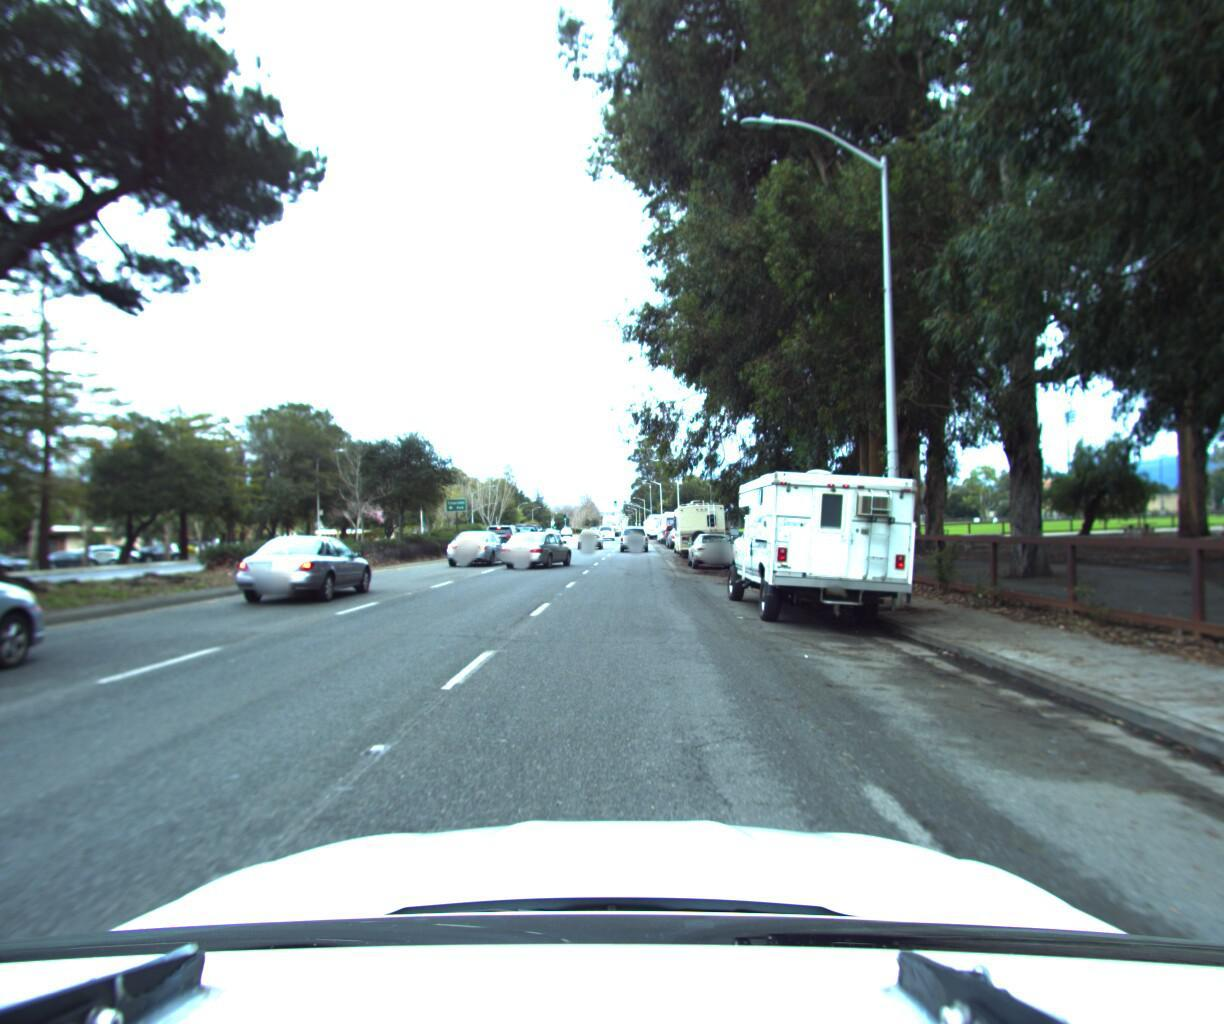car: (227, 525, 386, 613), (496, 526, 576, 569), (440, 528, 517, 566), (686, 526, 745, 570), (481, 519, 530, 556), (619, 519, 652, 548), (575, 522, 604, 544), (527, 520, 550, 541)
other_vehicle: (714, 453, 943, 637), (672, 498, 733, 557), (656, 507, 692, 541)
